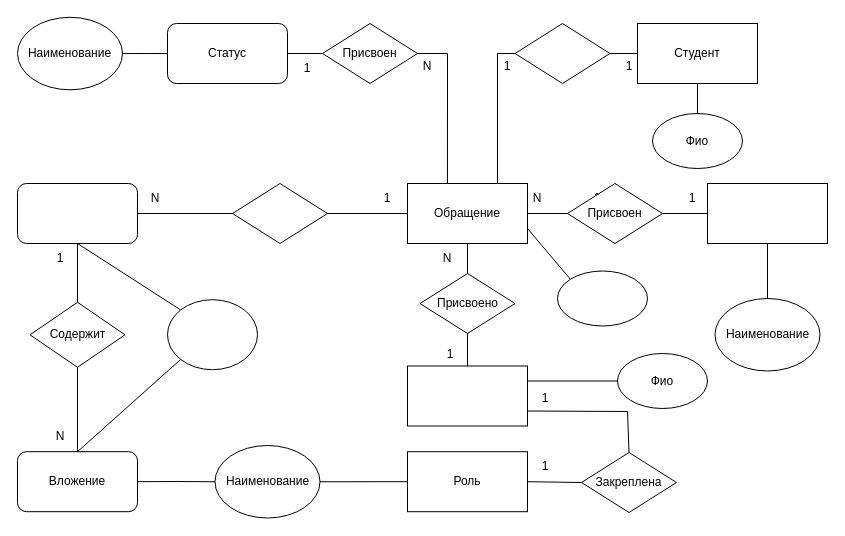
Image size: 845x536. Some labels were removed from this diagram. The shapes that lost their labels are listed below. From the top down, each one's centre as x and y in pixels, then its label:
At (x=562, y=53): "Создает".
At (x=77, y=213): "Ответ".
At (x=280, y=213): "Получен".
At (x=767, y=213): "Кластер".
At (x=602, y=298): "Дата".
At (x=212, y=334): "Комментарий".
At (x=467, y=395): "Сотрудник".
